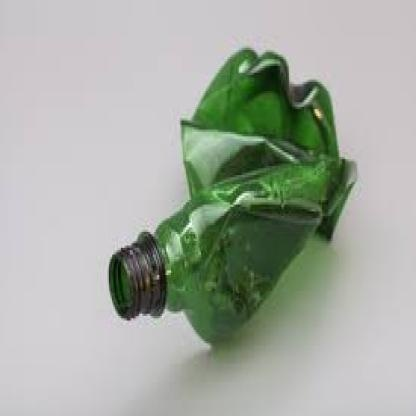trash: (109, 49, 355, 342)
